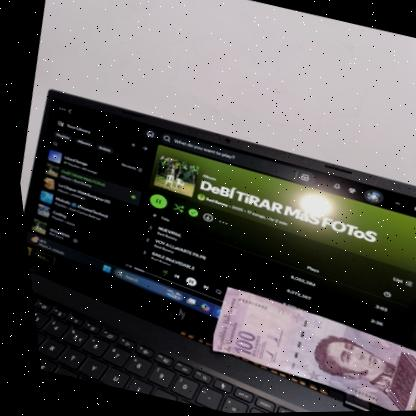vef_front: (192, 282, 416, 414)
